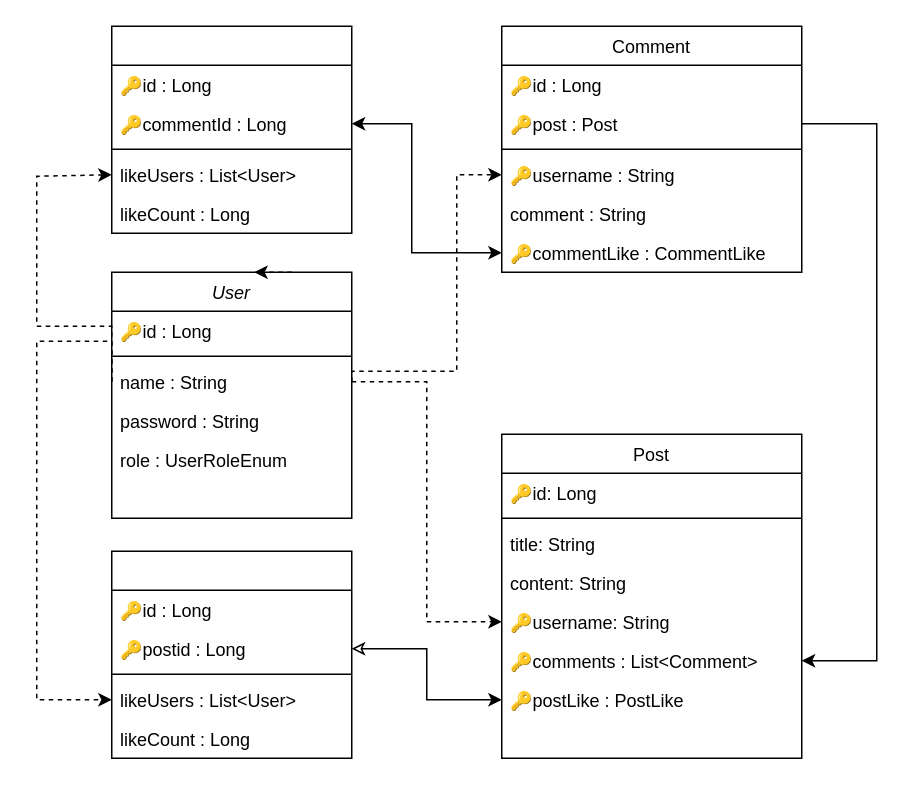
Image size: 915x789. Some labels were removed from this diagram. The box of each missing label's shape, as (x1, y1, x2, y2) in pixels:
CommentLike: (110, 25, 352, 233)
PostLike: (110, 550, 352, 758)
